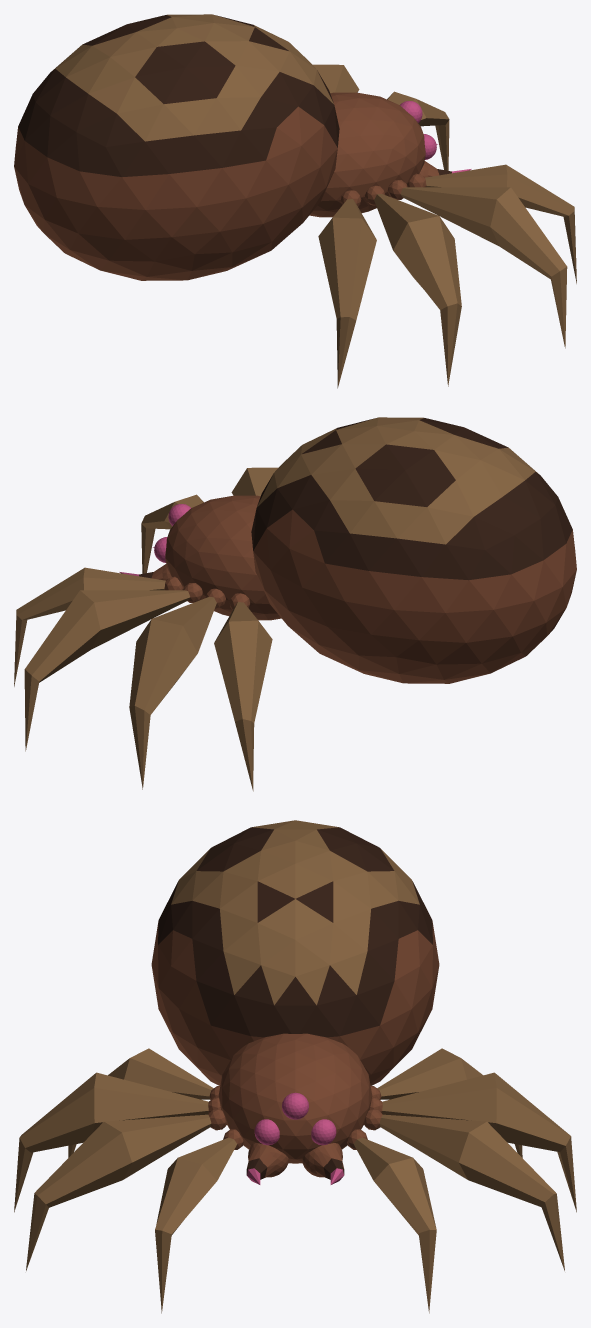
The model's file is spider.fbx.
The picture shows the model from 3 angles, top to bottom: view 1: azimuth 30°, elevation 25°; view 2: azimuth 150°, elevation 25°; view 3: azimuth 270°, elevation 25°; orthographic projection. The views are drawn at different scales.
Parts seen in each view (by area): view 1: Icosphere; view 2: Icosphere; view 3: Icosphere.
Boxes of the visible parts, box(x1,y1,x2,y2) form: Icosphere: box(14, 14, 576, 388); Icosphere: box(14, 417, 576, 791); Icosphere: box(14, 820, 576, 1313).
Bounding box in the file's own units: 425 × 245 × 412.
